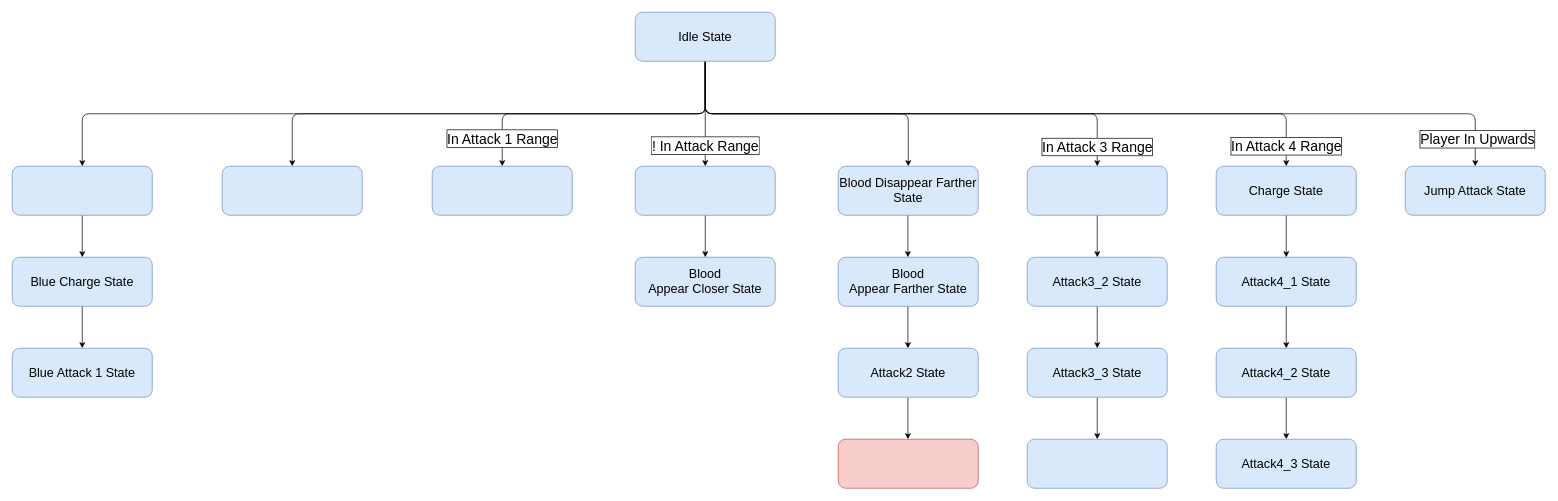
Some shapes in this 1558 by 501 pixel diagram are drawn without their labels. Each missing label, with the box of its shape:
Attack1 State: (432, 166, 572, 215)
Attack3_1 State: (1027, 166, 1167, 215)
Attack3_4 State: (1027, 439, 1167, 488)
Blood Disappear Closer State: (635, 166, 775, 215)
Blue Chase State: (12, 166, 152, 215)
Heart Slam State: (838, 439, 978, 488)
Transform State: (222, 166, 362, 215)
